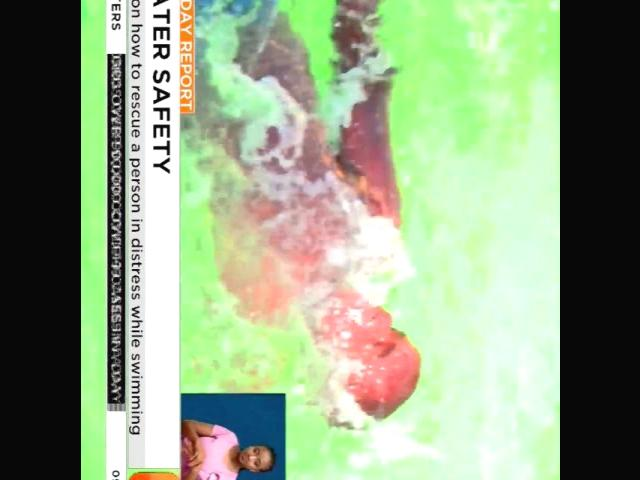swimming: (195, 0, 434, 437)
